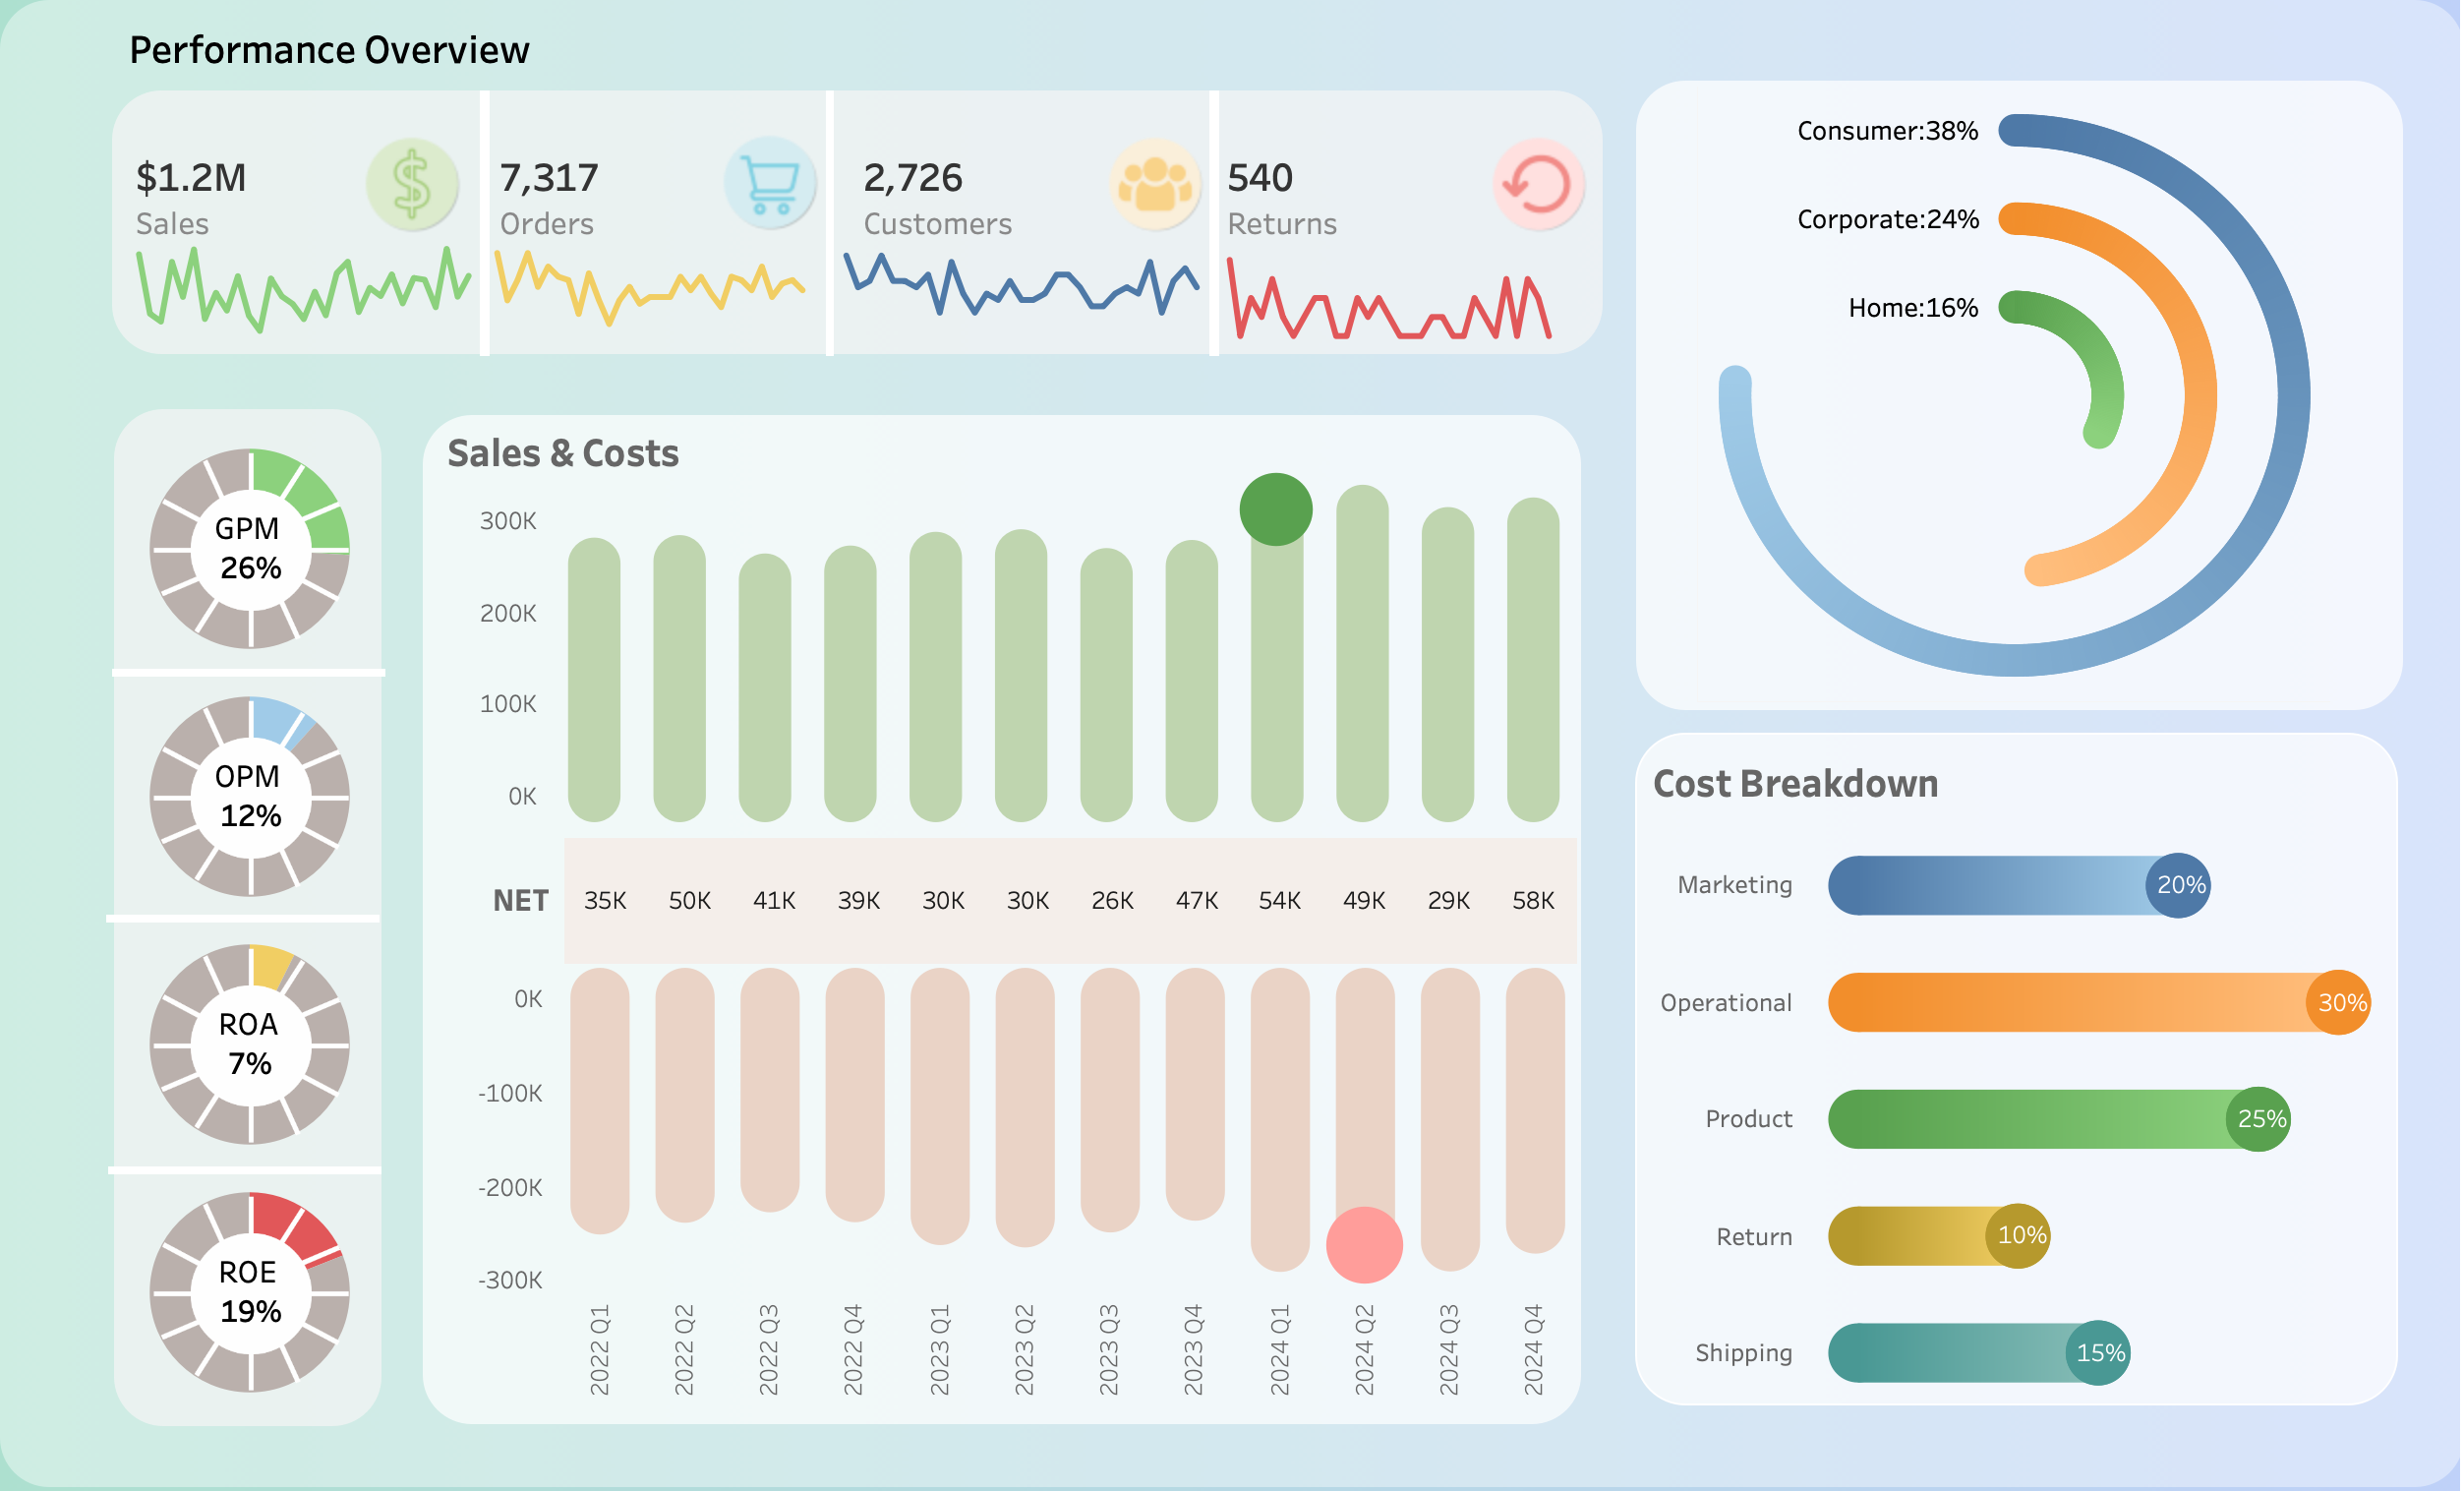

This screenshot's page, from the dashboard's own definition file:
{"tool":"tableau","page":{"name":"Overview","canvas":[1000,1000],"units":"permille","ordinal":0},"visuals":[{"type":"image","param":"Image/Green - Blue Background.png","box":[6.2,10,987.7,980]},{"type":"worksheet","title":"OV-Back","mark":"Automatic","box":[26.9,28.8,943.1,930]},{"type":"text","box":[81.5,41.2,326.9,32.5]},{"type":"worksheet","title":"Radial","mark":"Line","box":[628.5,81.2,219.2,367.5]},{"type":"text","box":[207.7,83.8,3.1,158.8]},{"type":"text","box":[326.9,83.8,3.1,158.8]},{"type":"text","box":[460,83.8,3.1,158.8]},{"type":"worksheet","title":"KPI Metrics","mark":"Automatic","box":[85.4,95,503.1,85]},{"type":"image","param":"Image/Orders Icon.png","box":[290.8,107.5,34.6,62.5]},{"type":"image","param":"Image/Sales Icon.png","box":[166.9,108.8,34.6,62.5]},{"type":"image","param":"Image/Customer Icon.png","box":[423.9,108.8,34.6,62.5]},{"type":"image","param":"Image/Returns Icon.png","box":[556.1,108.8,34.6,62.5]},{"type":"worksheet","title":"Spark-Sales","mark":"Automatic","rows":["Sales"],"cols":["Order Date"],"box":[81.5,172.5,129.2,65]},{"type":"worksheet","title":"Spark-Returns","mark":"Automatic","rows":["Returns"],"cols":["Order Date"],"box":[459.2,172.5,125.4,68.8]},{"type":"worksheet","title":"Spark-Order ","mark":"Automatic","rows":["Order ID"],"cols":["Order Date"],"box":[206.2,173.8,120,65]},{"type":"worksheet","title":"Spark-Customers","mark":"Automatic","rows":["Customer ID"],"cols":["Order Date"],"box":[326.2,173.8,137.7,68.8]},{"type":"text","box":[194.6,278.8,140.8,37.5]},{"type":"worksheet","title":"Seg-Donuts","mark":"Automatic","rows":["Metric"],"cols":["Calculation_6686297347956113422","Calculation_6686297347956129808"],"box":[89.2,282.5,77.7,591.2]},{"type":"worksheet","title":"sales","mark":"Automatic","rows":["Sales"],"cols":["Order Date"],"box":[186.9,302.5,399.2,225]},{"type":"text","box":[80,427.5,94.6,5]},{"type":"text","box":[611.5,476.2,118.5,37.5]},{"type":"worksheet","title":"Bars w Bubbles (2)","mark":"Line","rows":["Type of Cost"],"cols":["Cost"],"box":[610.8,521.2,257.7,348.8]},{"type":"worksheet","title":"Net Sales","mark":"Automatic","cols":["Calculation_642255542136020993"],"box":[236.9,528.8,350,75]},{"type":"text","box":[210,545,76.9,41.2]},{"type":"text","box":[78.5,575,94.6,5]},{"type":"worksheet","title":"Cost Bars","mark":"Automatic","rows":["Calculation_692287719259176967"],"cols":["Quarter-Year"],"box":[186.2,597.5,400.8,265]},{"type":"text","box":[79.2,725,94.6,5]}]}

Visuals, with their boxes on the dashboard's canvas, which has no fixed pixel size, in thousandths of its width and height (x1, y1, x2, y2). These are canvas units, not pixel positions in the 2464x1491 screenshot, which may show the page scaled, cropped or inside an application window:
image: BBox(6, 10, 994, 990)
"OV-Back" worksheet: BBox(27, 29, 970, 959)
text: BBox(82, 41, 408, 74)
"Radial" worksheet (Line marks): BBox(628, 81, 848, 449)
text: BBox(208, 84, 211, 243)
text: BBox(327, 84, 330, 243)
text: BBox(460, 84, 463, 243)
"KPI Metrics" worksheet: BBox(85, 95, 588, 180)
image: BBox(291, 108, 325, 170)
image: BBox(167, 109, 202, 171)
image: BBox(424, 109, 458, 171)
image: BBox(556, 109, 591, 171)
"Spark-Sales" worksheet: BBox(82, 172, 211, 238)
"Spark-Returns" worksheet: BBox(459, 172, 585, 241)
"Spark-Order " worksheet: BBox(206, 174, 326, 239)
"Spark-Customers" worksheet: BBox(326, 174, 464, 243)
text: BBox(195, 279, 335, 316)
"Seg-Donuts" worksheet: BBox(89, 282, 167, 874)
"sales" worksheet: BBox(187, 302, 586, 528)
text: BBox(80, 428, 175, 432)
text: BBox(612, 476, 730, 514)
"Bars w Bubbles (2)" worksheet (Line marks): BBox(611, 521, 868, 870)
"Net Sales" worksheet: BBox(237, 529, 587, 604)
text: BBox(210, 545, 287, 586)
text: BBox(78, 575, 173, 580)
"Cost Bars" worksheet: BBox(186, 598, 587, 862)
text: BBox(79, 725, 174, 730)
